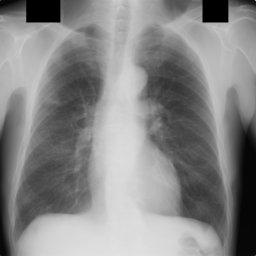left lobe: (137, 26, 225, 238)
right lobe: (16, 33, 103, 234)
